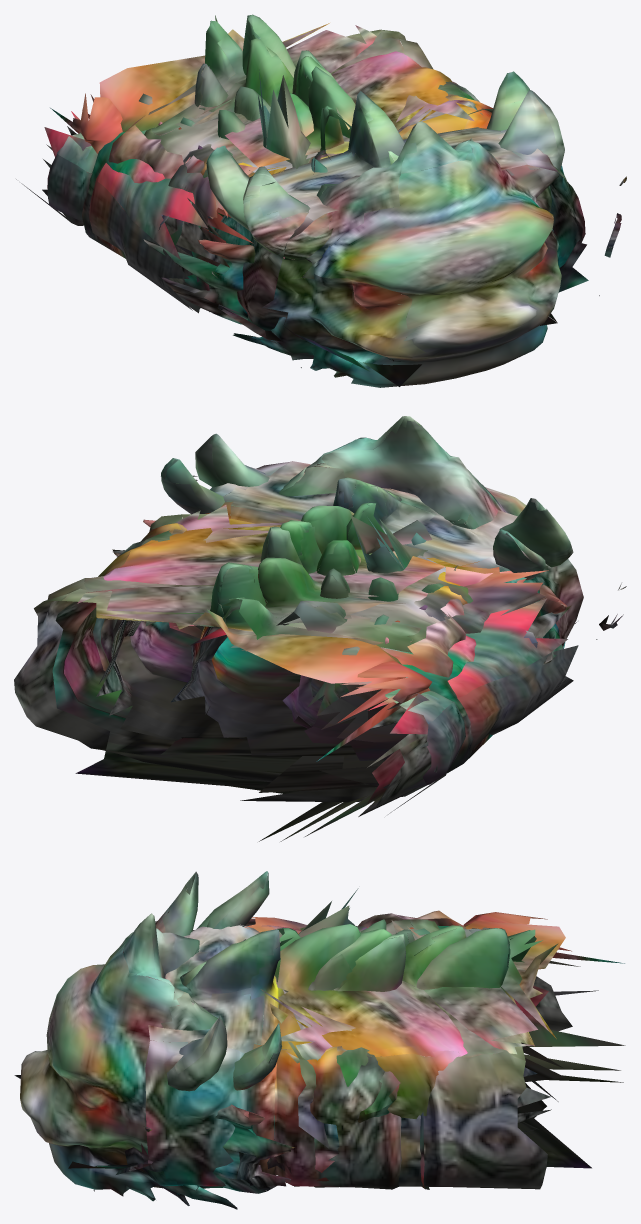
The model's file is leviathan.glb.
3 views of the same model, one above another, from view 1: azimuth 30°, elevation 25°; view 2: azimuth 150°, elevation 25°; view 3: azimuth 270°, elevation 25° (orthographic). The views are drawn at different scales.
Parts seen in each view (by area): view 1: part-1, part-3, part-0, part-6, part-2, part-5; view 2: part-3, part-6, part-5, part-2, part-1, part-0, part-8, part-9; view 3: part-1, part-0, part-2, part-3, part-5, part-6.
Boxes of the visible parts, bbox=[...] form: part-1: bbox=[143, 71, 564, 387]; part-3: bbox=[46, 20, 492, 290]; part-0: bbox=[183, 50, 626, 386]; part-6: bbox=[47, 69, 341, 313]; part-2: bbox=[50, 14, 475, 234]; part-5: bbox=[16, 63, 482, 284]; part-3: bbox=[52, 505, 526, 816]; part-6: bbox=[171, 515, 578, 791]; part-5: bbox=[96, 502, 571, 814]; part-2: bbox=[14, 520, 472, 841]; part-1: bbox=[112, 416, 573, 664]; part-0: bbox=[93, 461, 626, 673]; part-8: bbox=[282, 565, 537, 760]; part-9: bbox=[307, 605, 427, 742]; part-1: bbox=[20, 871, 294, 1209]; part-0: bbox=[14, 921, 429, 1191]; part-2: bbox=[280, 919, 625, 1189]; part-3: bbox=[261, 910, 591, 1186]; part-5: bbox=[244, 917, 598, 1135]; part-6: bbox=[243, 888, 537, 1139].
Bounding box in the file's own units: 24.34 × 12.51 × 30.
1 material, 1 textured.
